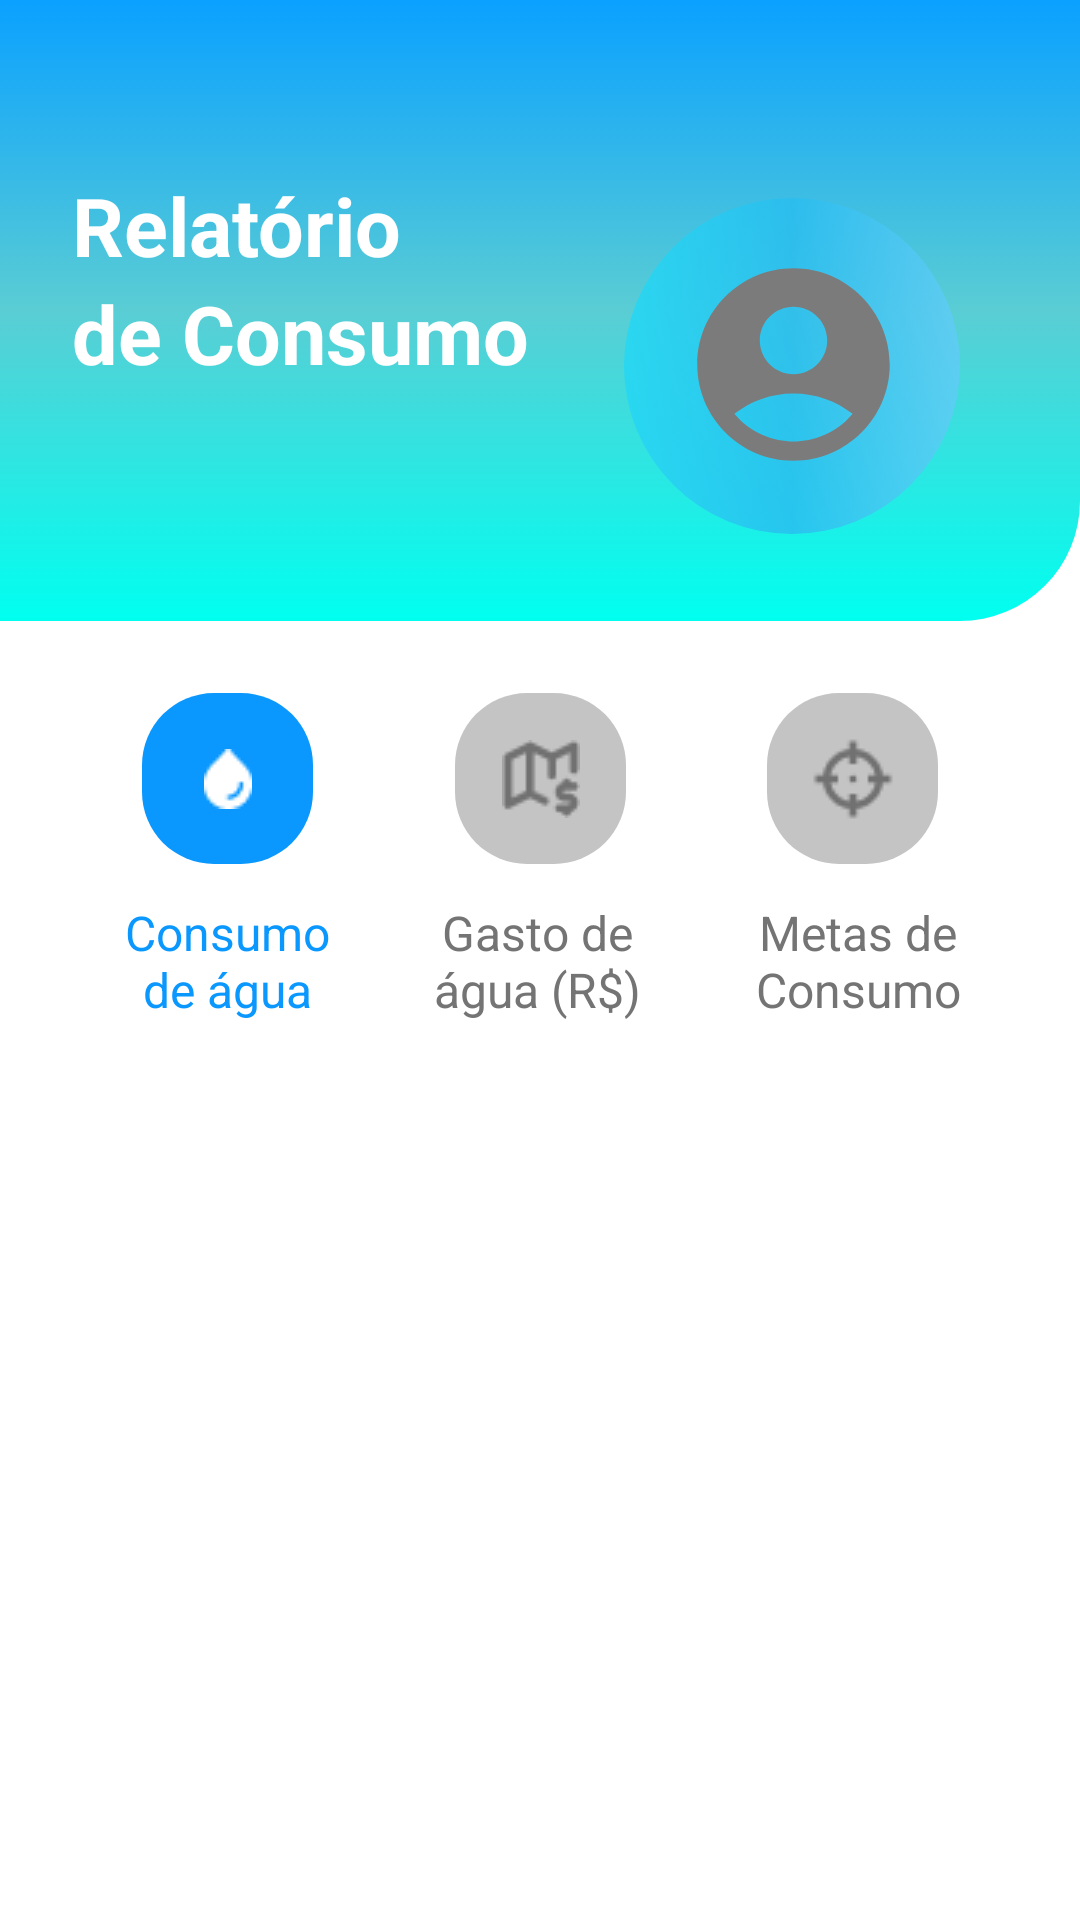

Icon click points for this 1080px x 1920px phone screenshot, format point (x, y):
water relatorio: point (227, 778)
